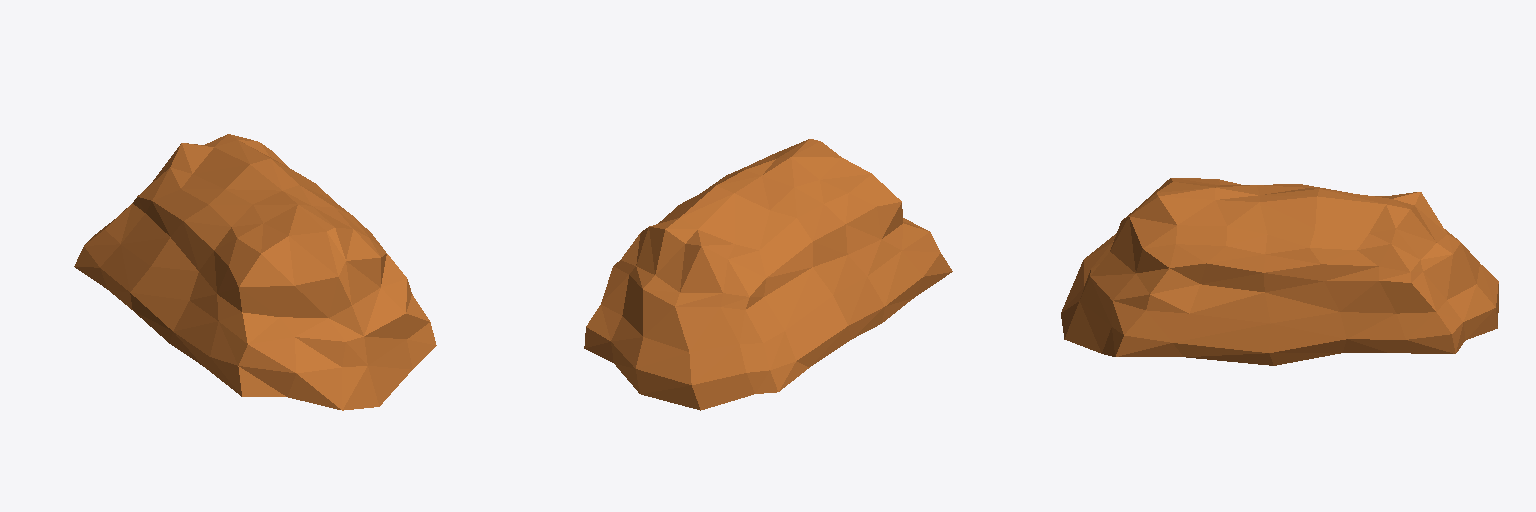
The model's file is Wall01.obj.
3 renders of one model, left to right at view 1: azimuth 30°, elevation 25°; view 2: azimuth 150°, elevation 25°; view 3: azimuth 270°, elevation 25°, orthographic.
Parts seen in each view (by area): view 1: Cube_Cube.002; view 2: Cube_Cube.002; view 3: Cube_Cube.002.
Boxes of the visible parts, x1=… form: Cube_Cube.002: x1=74, y1=134, x2=436, y2=410; Cube_Cube.002: x1=584, y1=139, x2=952, y2=410; Cube_Cube.002: x1=1061, y1=178, x2=1498, y2=365.
Bounding box in the file's own units: 257 × 180 × 471.